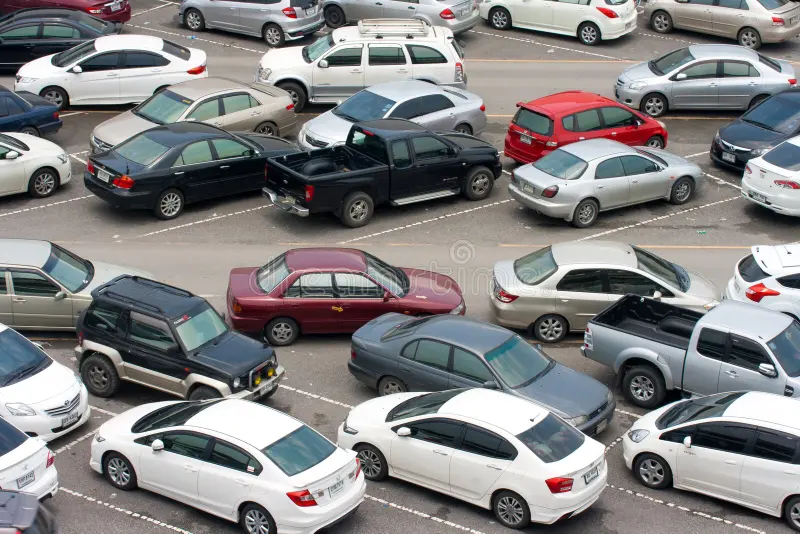Car: (337, 388, 608, 529), (91, 398, 365, 534), (347, 313, 615, 436), (263, 119, 501, 228), (75, 276, 284, 400), (622, 391, 800, 532), (581, 295, 800, 409), (226, 247, 465, 346), (490, 241, 720, 343), (83, 122, 298, 220), (256, 18, 467, 111), (508, 140, 703, 228), (89, 77, 296, 154), (13, 34, 208, 110), (0, 238, 155, 332), (613, 44, 800, 117), (297, 80, 488, 149), (503, 90, 668, 164), (0, 323, 91, 443), (0, 9, 122, 74), (644, 0, 800, 50), (709, 87, 800, 171), (479, 0, 638, 46), (178, 0, 324, 47), (726, 242, 800, 322), (322, 0, 478, 35), (0, 416, 60, 502), (741, 135, 800, 218), (0, 132, 73, 198), (0, 0, 131, 25), (0, 86, 62, 136), (0, 490, 60, 534)
